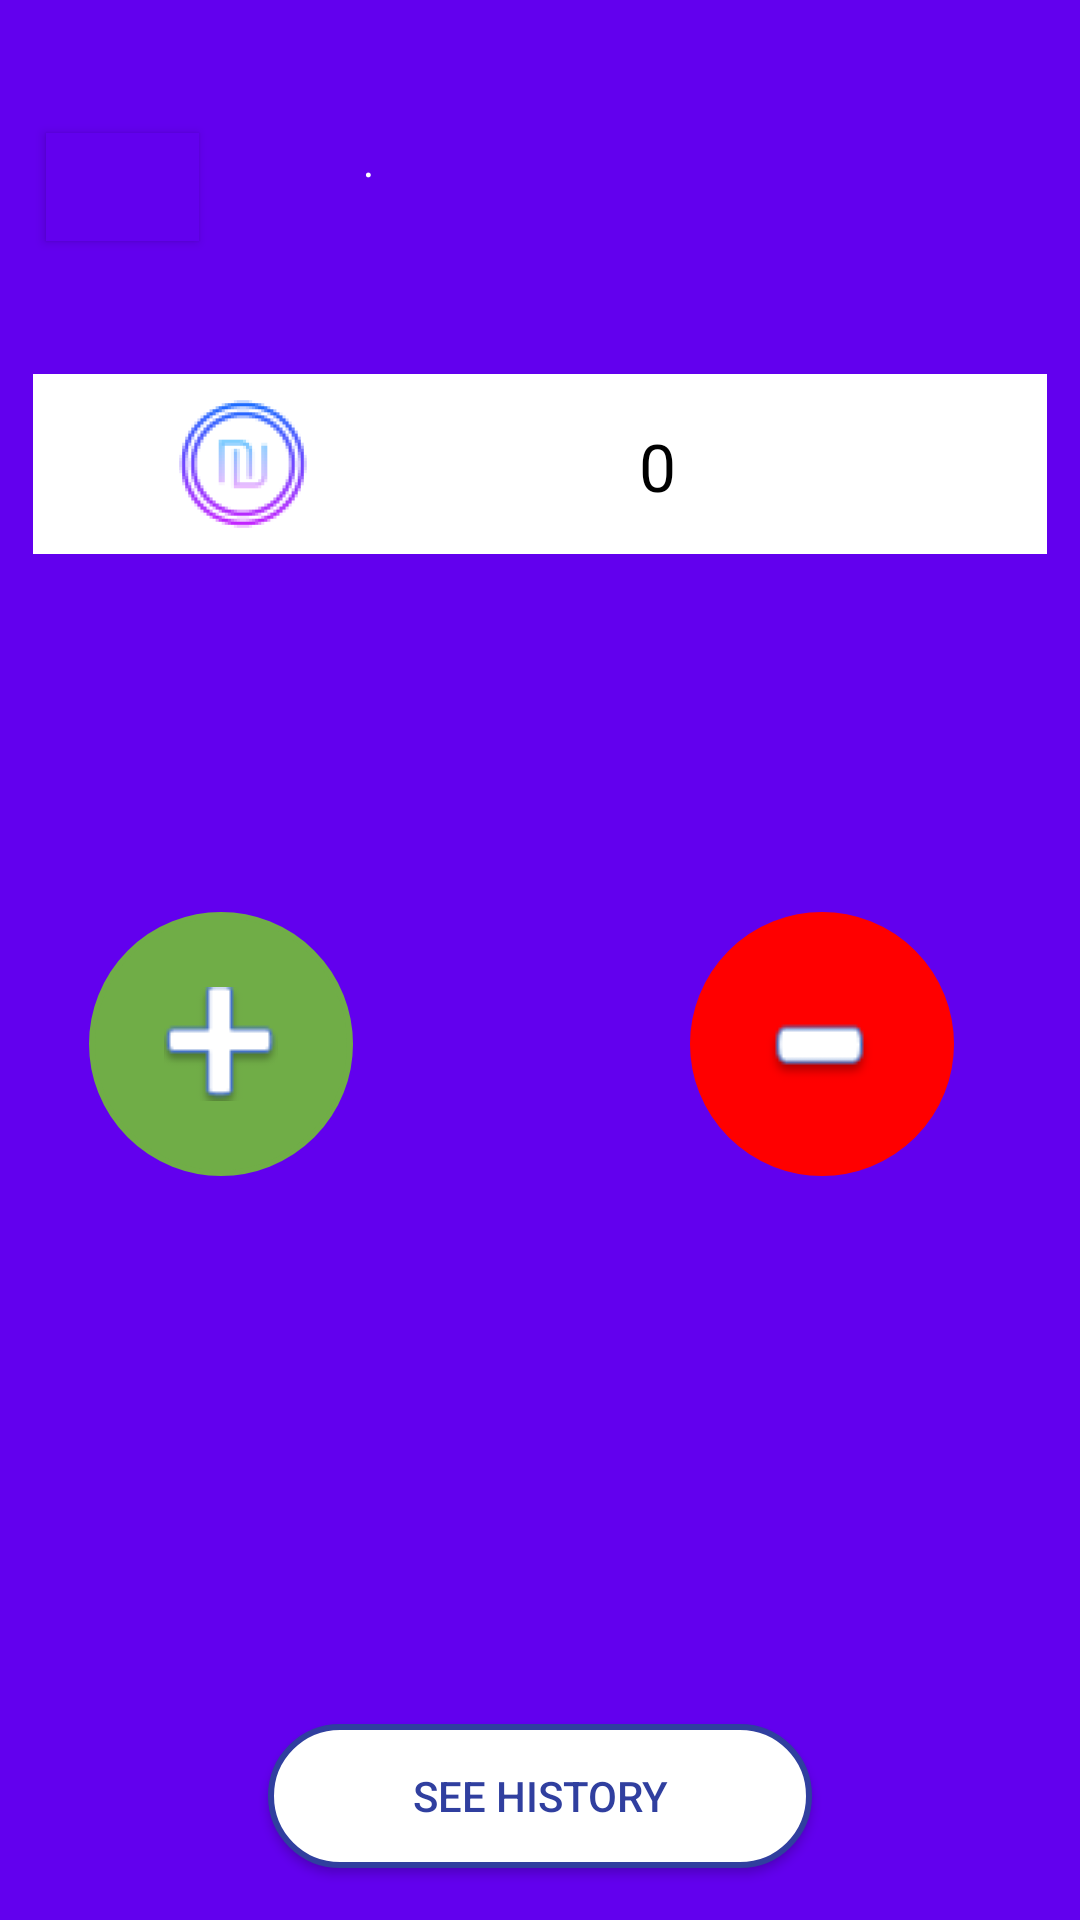

Named icons in this screenshot (1080 × 1920) and their centers, [x,y]:
minus: [822,1044]
plustrue: [221,1044]
